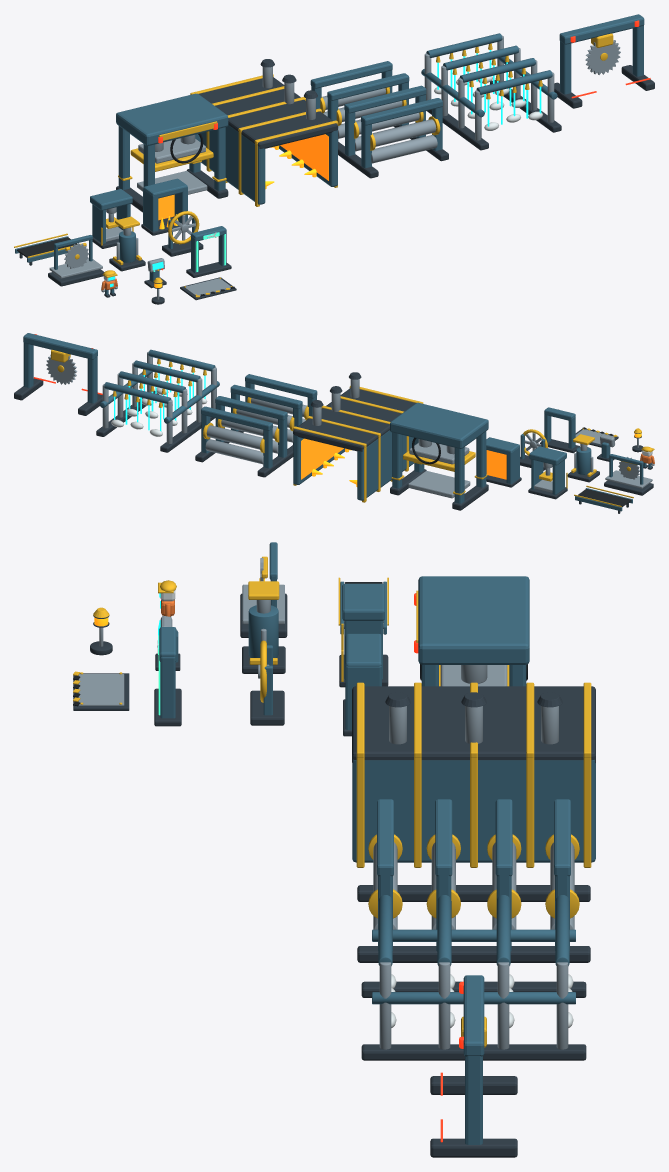
The model's file is conveyor_factory_kit.glb.
The picture shows the model from 3 angles, top to bottom: view 1: azimuth 30°, elevation 25°; view 2: azimuth 150°, elevation 25°; view 3: azimuth 270°, elevation 25°; orthographic projection. The views are drawn at different scales.
Parts seen in each view (by area): view 1: Tunnel_Roof, LinePress_Crown, Tunnel_Shell_L, Tunnel_Heat_Lining_R, Cutter_Cross_Track, Roller_Lower_1, Roller_Upper_1, Roller_Crossbeam_2, Roller_Crossbeam_4, Roller_Crossbeam_3, Roller_Crossbeam_1, Cutter_Blade (+30 smaller); view 2: Tunnel_Roof, LinePress_Crown, Tunnel_Shell_L, Tunnel_Heat_Lining_R, LinePress_Lower_Die, Cutter_Cross_Track, Roller_Lower_4, Roller_Upper_4, Roller_Crossbeam_2, Roller_Crossbeam_3, Roller_Crossbeam_1, Roller_Crossbeam_4 (+36 smaller); view 3: Tunnel_Shell_R, Tunnel_Roof, LinePress_Crown, Cooling_Base_R, Roller_Line_Base_R, Cooling_Manifold_R, Roller_Line_Base_L, Cooling_Manifold_L, Cutter_Cross_Track, Cooling_Base_L, Press_Crown, Cutter_Foot_R (+26 smaller).
Part boxes in pixels (x1,y1,x2,y2): Tunnel_Roof: [199, 77, 337, 148]; LinePress_Crown: [116, 93, 228, 145]; Tunnel_Shell_L: [200, 125, 265, 204]; Tunnel_Heat_Lining_R: [280, 134, 328, 180]; Cutter_Cross_Track: [559, 14, 644, 44]; Roller_Lower_1: [371, 135, 437, 163]; Roller_Upper_1: [372, 119, 436, 146]; Roller_Crossbeam_2: [344, 85, 426, 113]; Roller_Crossbeam_4: [310, 61, 392, 88]; Roller_Crossbeam_3: [327, 73, 409, 100]; Roller_Crossbeam_1: [361, 98, 442, 125]; Cutter_Blade: [585, 40, 620, 74]; Tunnel_Roof: [293, 388, 415, 451]; LinePress_Crown: [390, 402, 488, 448]; Tunnel_Shell_L: [357, 430, 414, 500]; Tunnel_Heat_Lining_R: [301, 438, 343, 479]; LinePress_Lower_Die: [408, 471, 470, 498]; Cutter_Cross_Track: [23, 333, 97, 359]; Roller_Lower_4: [205, 439, 263, 464]; Roller_Upper_4: [206, 425, 262, 449]; Roller_Crossbeam_2: [230, 384, 302, 409]; Roller_Crossbeam_3: [215, 396, 287, 420]; Roller_Crossbeam_1: [245, 374, 317, 398]; Roller_Crossbeam_4: [201, 406, 272, 430]; Tunnel_Shell_R: [352, 759, 595, 862]; Tunnel_Roof: [352, 686, 595, 763]; LinePress_Crown: [418, 576, 529, 664]; Cooling_Base_R: [361, 1044, 586, 1060]; Roller_Line_Base_R: [357, 946, 590, 962]; Cooling_Manifold_R: [372, 992, 575, 1004]; Roller_Line_Base_L: [357, 885, 590, 901]; Cooling_Manifold_L: [372, 929, 575, 941]; Cutter_Cross_Track: [463, 975, 484, 1056]; Cooling_Base_L: [361, 981, 586, 997]; Press_Crown: [342, 583, 384, 620]; Cutter_Foot_R: [430, 1138, 517, 1157].
Bounding box in the file's own units: 63.85 × 8.41 × 25.13.
